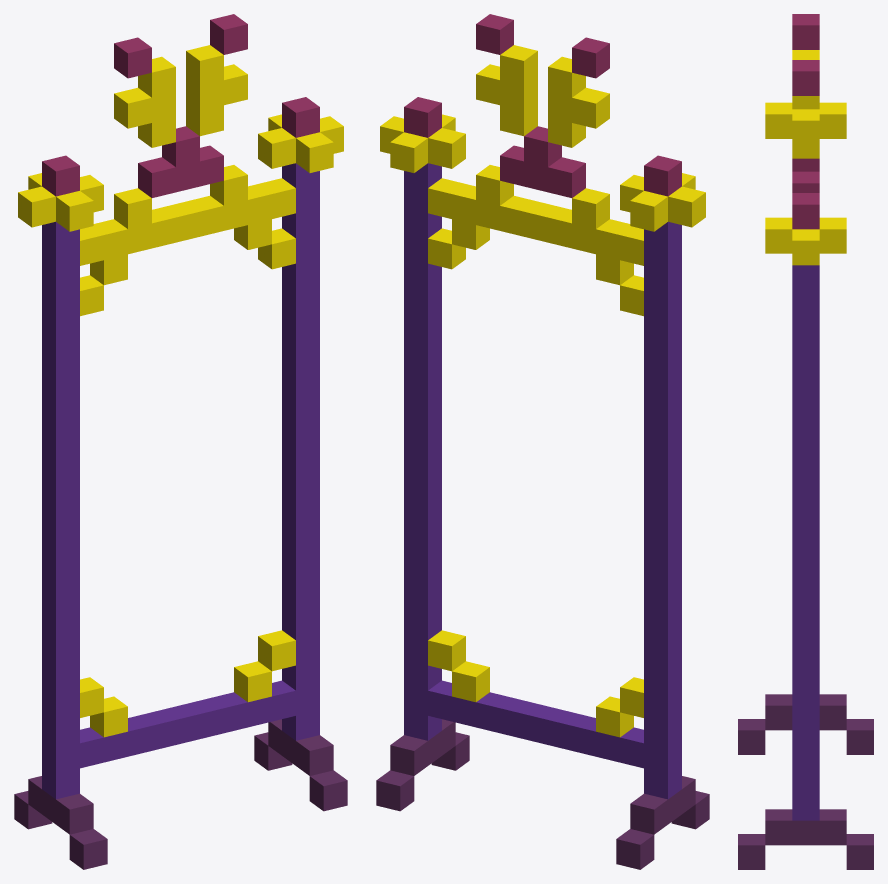
Rendered from mirror.obj.
The picture shows the model from 3 angles, left to right: view 1: azimuth 30°, elevation 25°; view 2: azimuth 150°, elevation 25°; view 3: azimuth 270°, elevation 25°; orthographic projection.
Size of the model in its own units: 1.3 by 3.1 by 0.5.
Materials: 1 (1 with a texture image).
